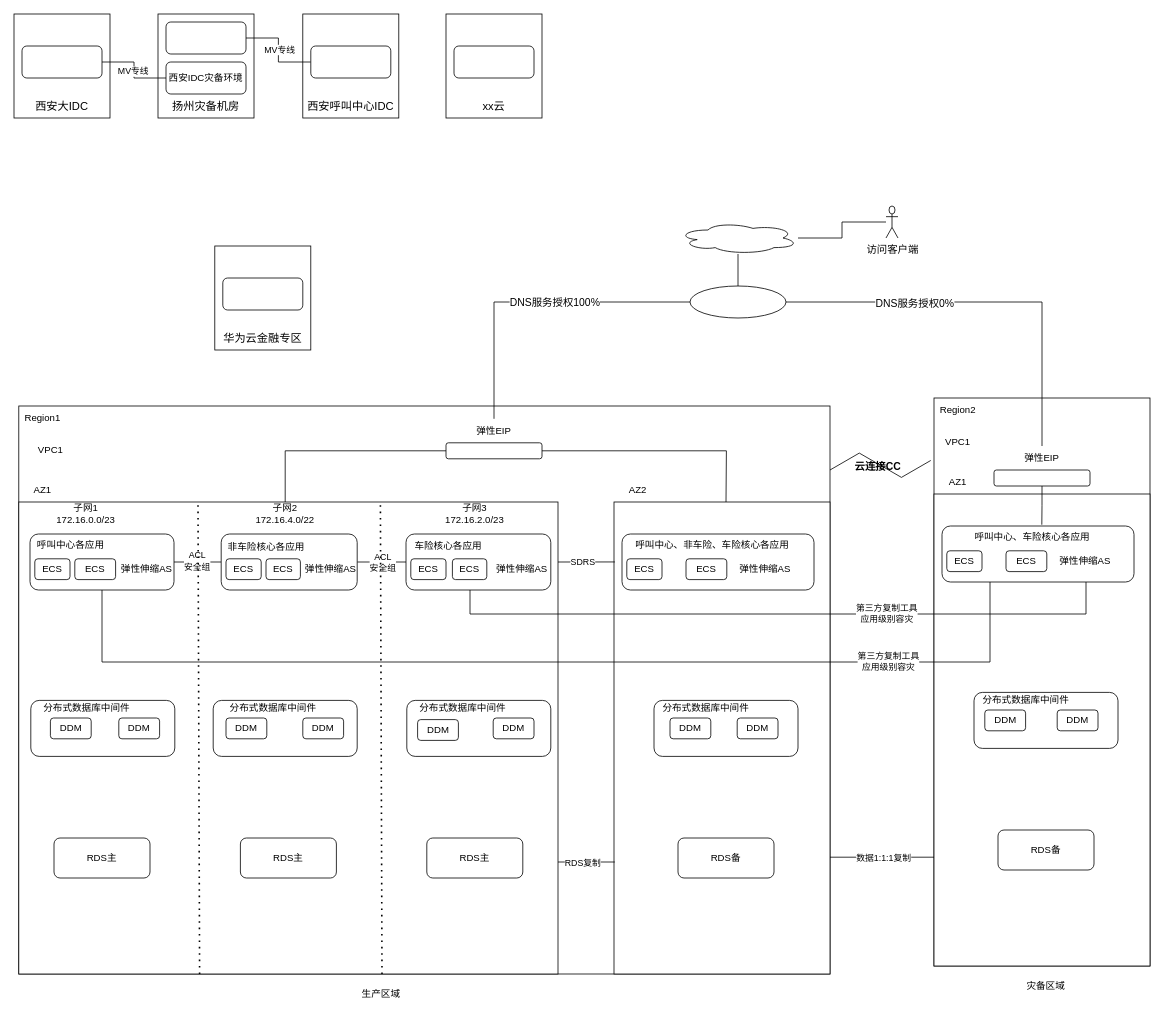
Some shapes in this 1164 by 1020 pixel diagram are drawn without their labels. Here are the shapes that lost their labels. From the top down, the centre of each, then its label:
At point (205, 37): "呼叫中心灾备环境".
At point (61, 61): "非车险核心".
At point (350, 61): "呼叫中心".
At point (493, 61): "车险核心".
At point (737, 237): "互联网".
At point (262, 293): "意健险".
At point (737, 301): "DNS服务".
At point (493, 450): "ELB".
At point (1041, 477): "Nginx".
